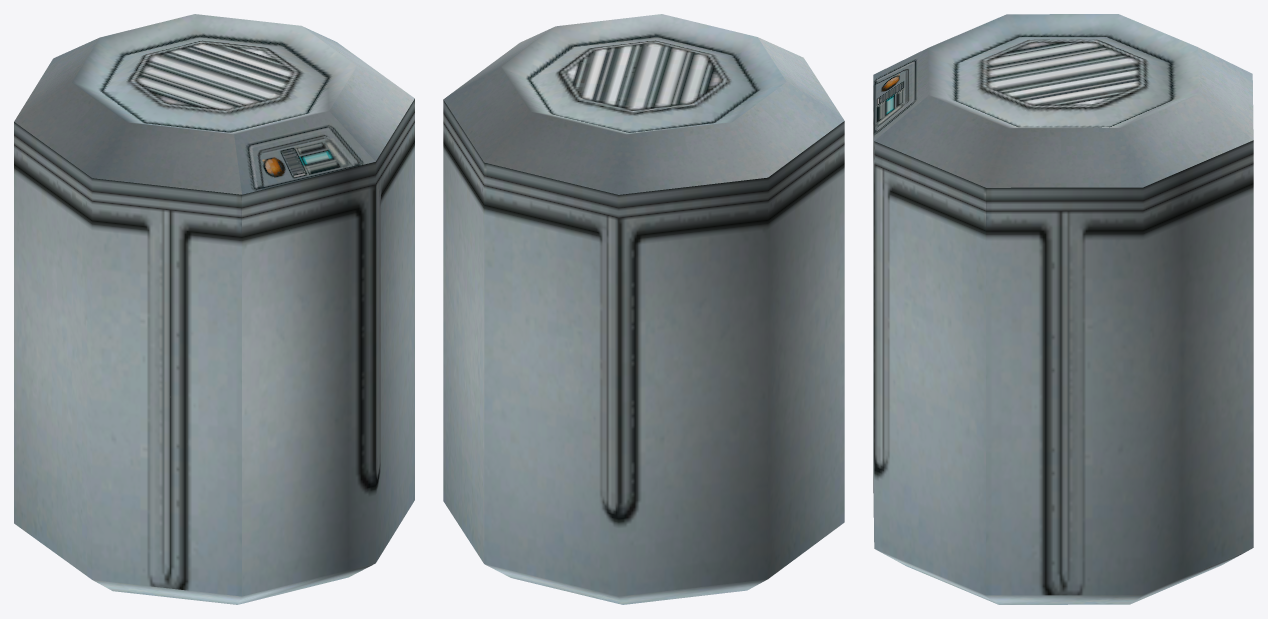
Rendered from edb_con_barrel_lg_s1_l0.fbx.
3 renders of one model, left to right at view 1: azimuth 30°, elevation 25°; view 2: azimuth 150°, elevation 25°; view 3: azimuth 270°, elevation 25°, orthographic.
Visible parts, largest first — view 1: mesh_node; view 2: mesh_node; view 3: mesh_node.
Part boxes in pixels (x1=…): mesh_node: x1=14, y1=14, x2=414, y2=604; mesh_node: x1=443, y1=14, x2=844, y2=604; mesh_node: x1=873, y1=14, x2=1253, y2=604.
Size of the model in its own units: 0.7465 by 1.01 by 0.7465.
